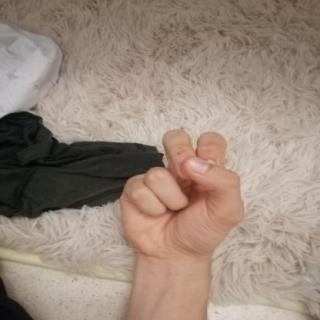QAAF: (105, 120, 260, 269)
